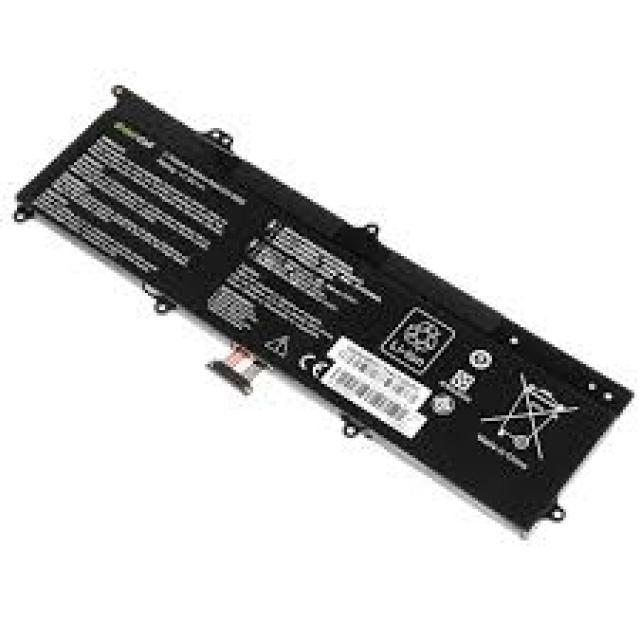battery: (13, 81, 635, 541)
